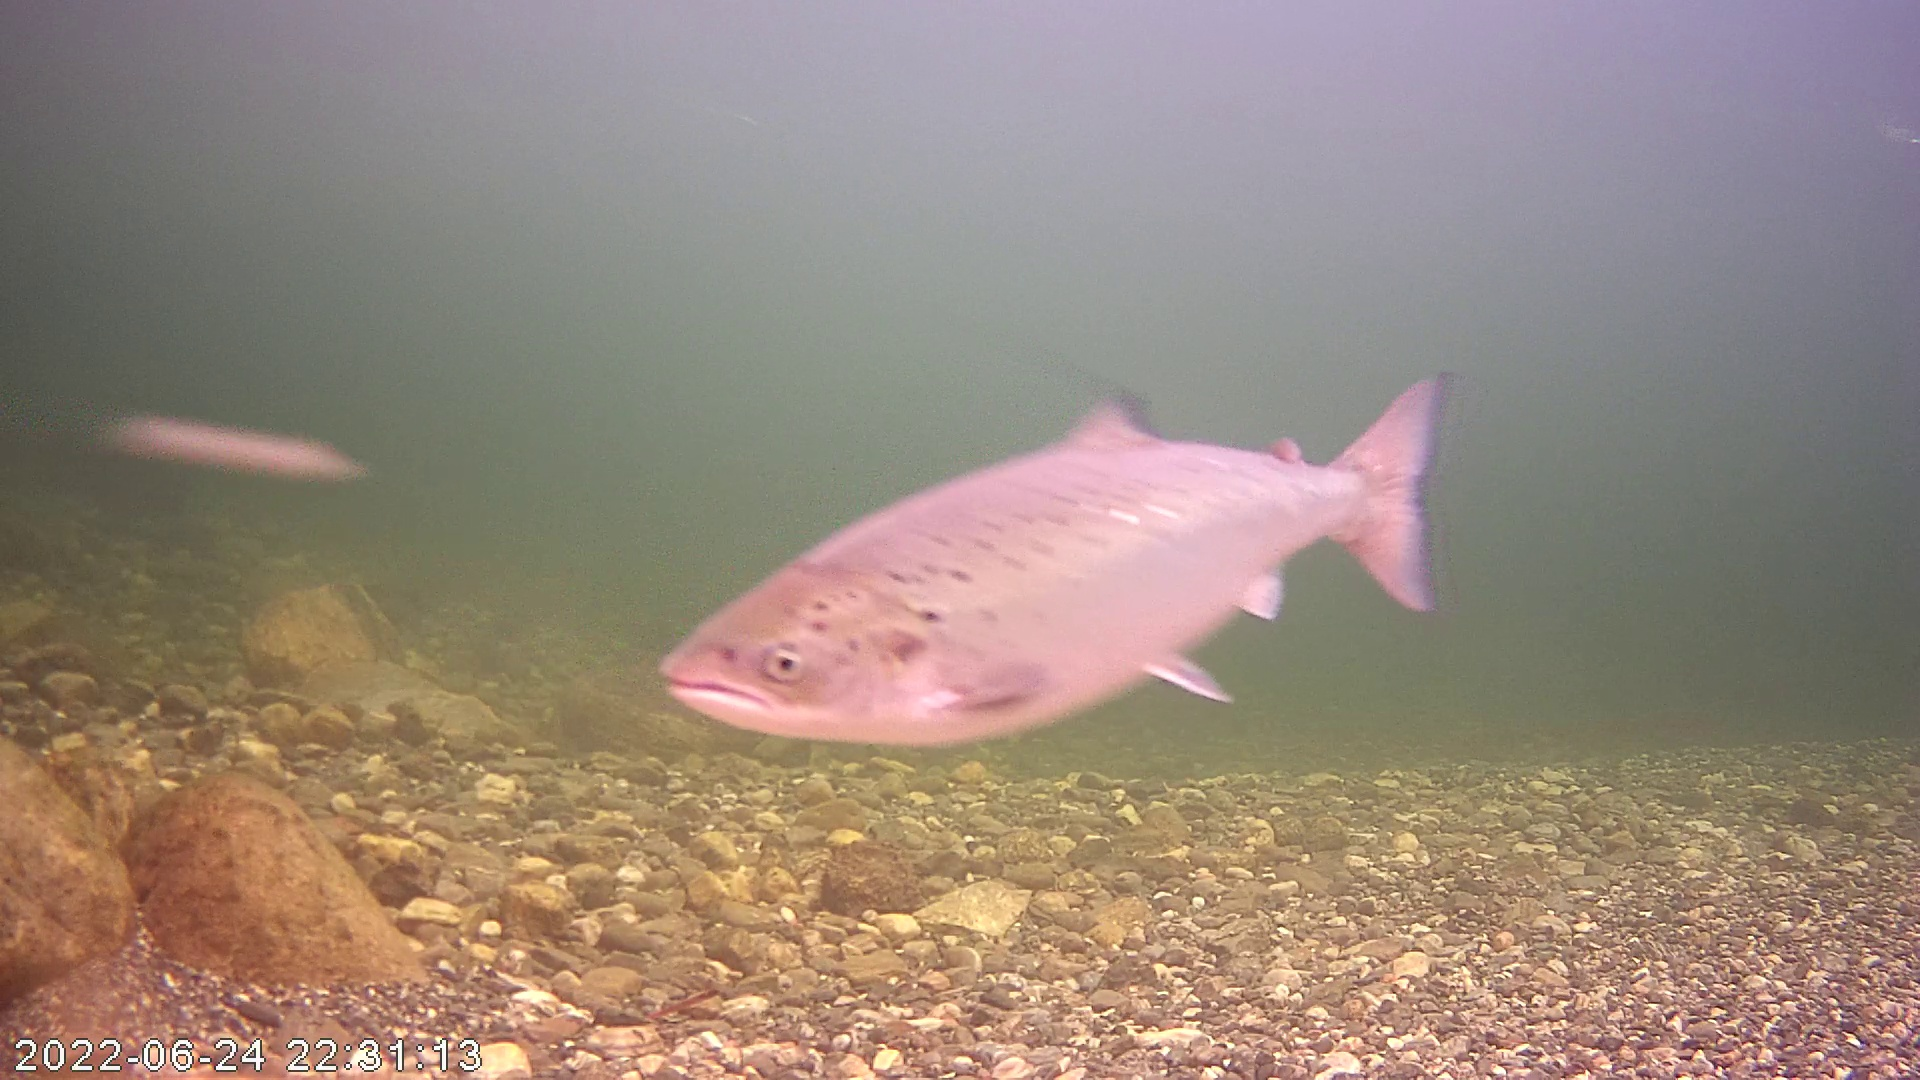salmon: (657, 368, 1447, 750)
